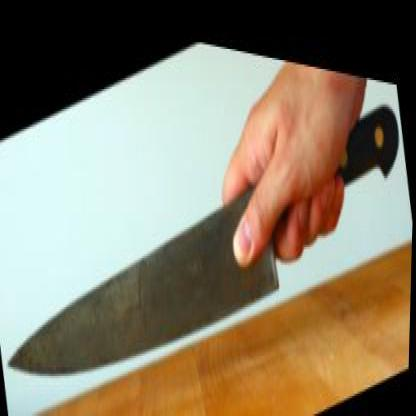knife: (0, 11, 329, 412)
